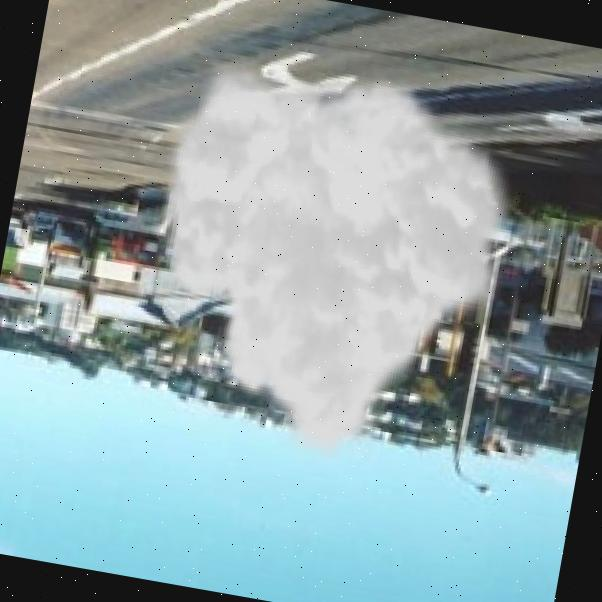smoke: (113, 38, 542, 493)
